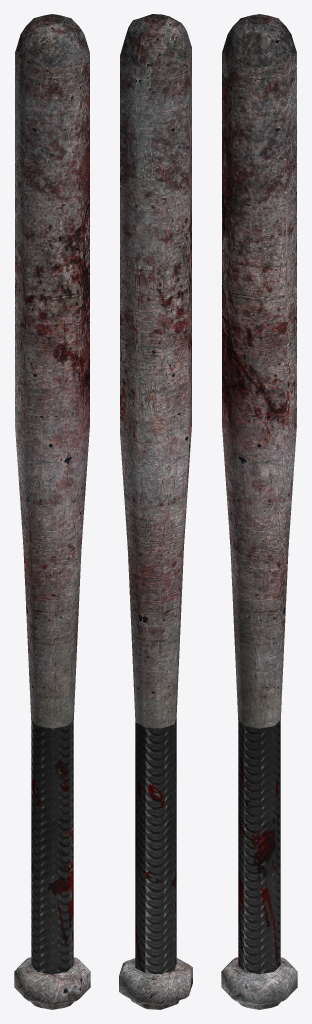
File: BaseballBat_Raw_Metal(Blood).fbx
3 views of the same model, side by side, from view 1: azimuth 90°, elevation 25°; view 2: azimuth 150°, elevation 25°; view 3: azimuth 270°, elevation 25° (orthographic).
Visible parts, largest first — view 1: BaseballBat_Raw_Metal(Blood); view 2: BaseballBat_Raw_Metal(Blood); view 3: BaseballBat_Raw_Metal(Blood).
Part boxes in pixels (x1,y1,x2,y2): BaseballBat_Raw_Metal(Blood): [14, 14, 90, 1009]; BaseballBat_Raw_Metal(Blood): [119, 14, 192, 1009]; BaseballBat_Raw_Metal(Blood): [221, 14, 297, 1009].
Bounding box in the file's own units: 5.92 × 84.03 × 5.92.
